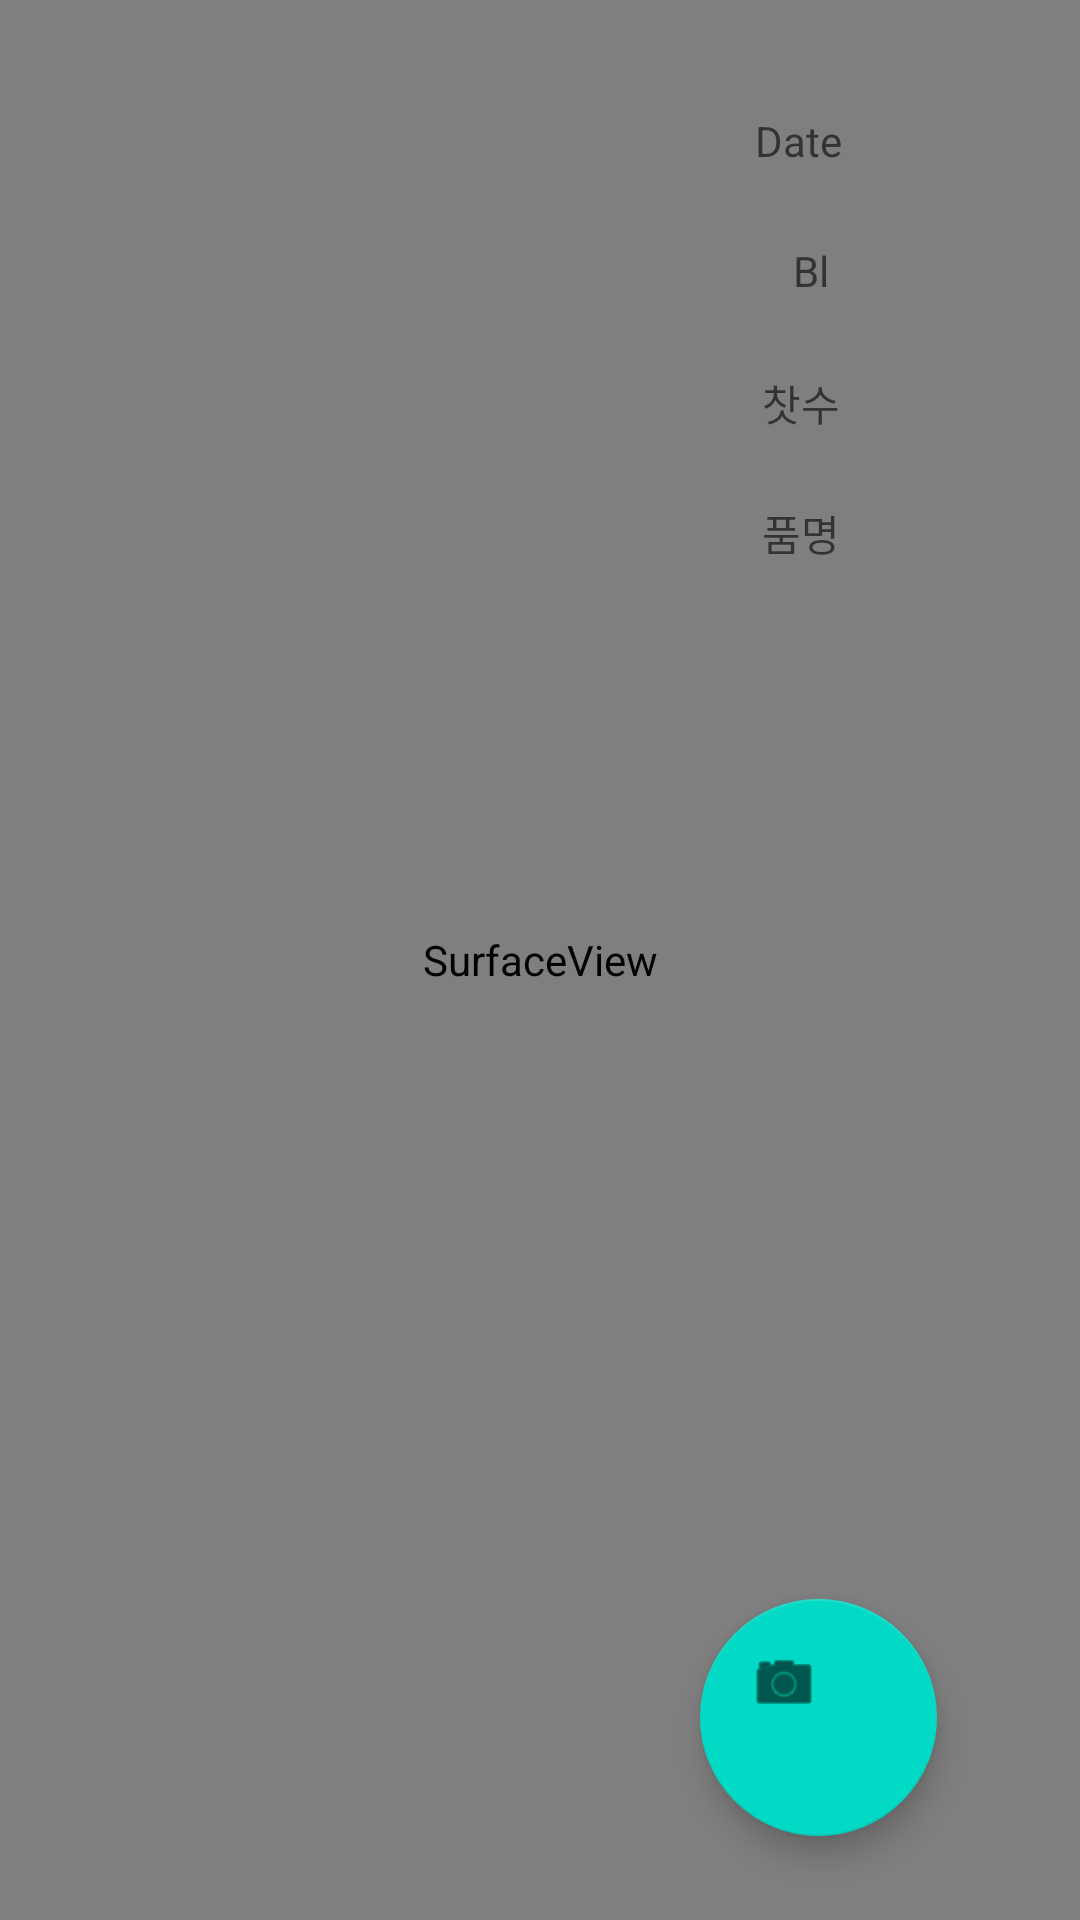

Where icons sit on this 1080 x 1920 app screen, as (x1, y1, x2, y2):
camera: (700, 1599, 937, 1836)
